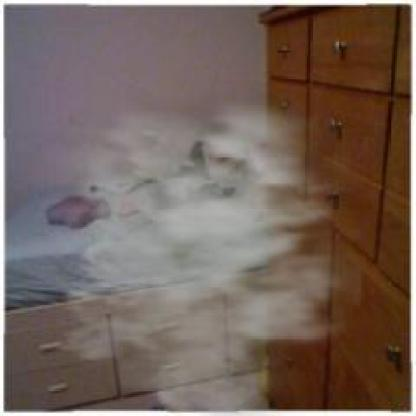Smoke: (23, 80, 364, 414)
